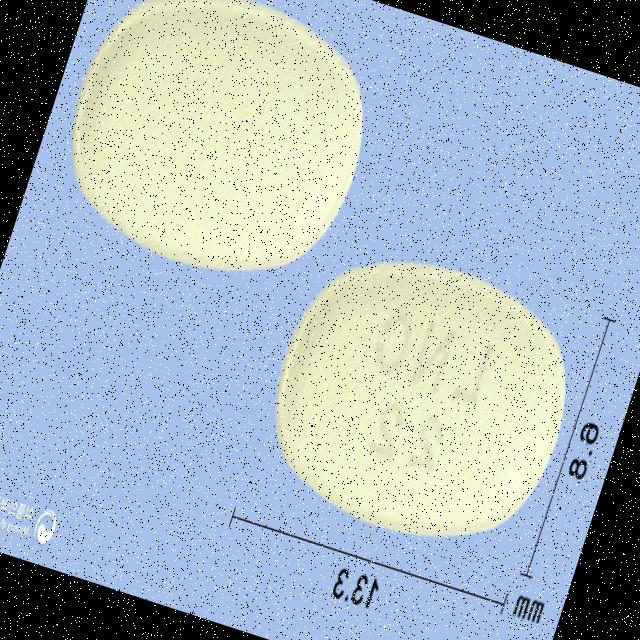Rithcinn Tab: (242, 227, 596, 570), (38, 0, 397, 306)
